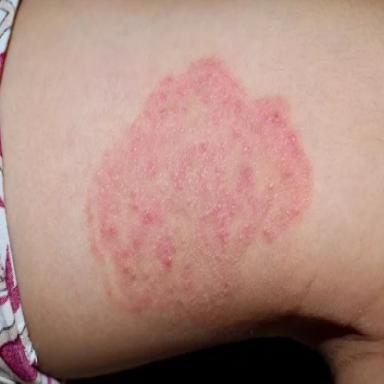Tinea-Corporis: (85, 51, 313, 329)
